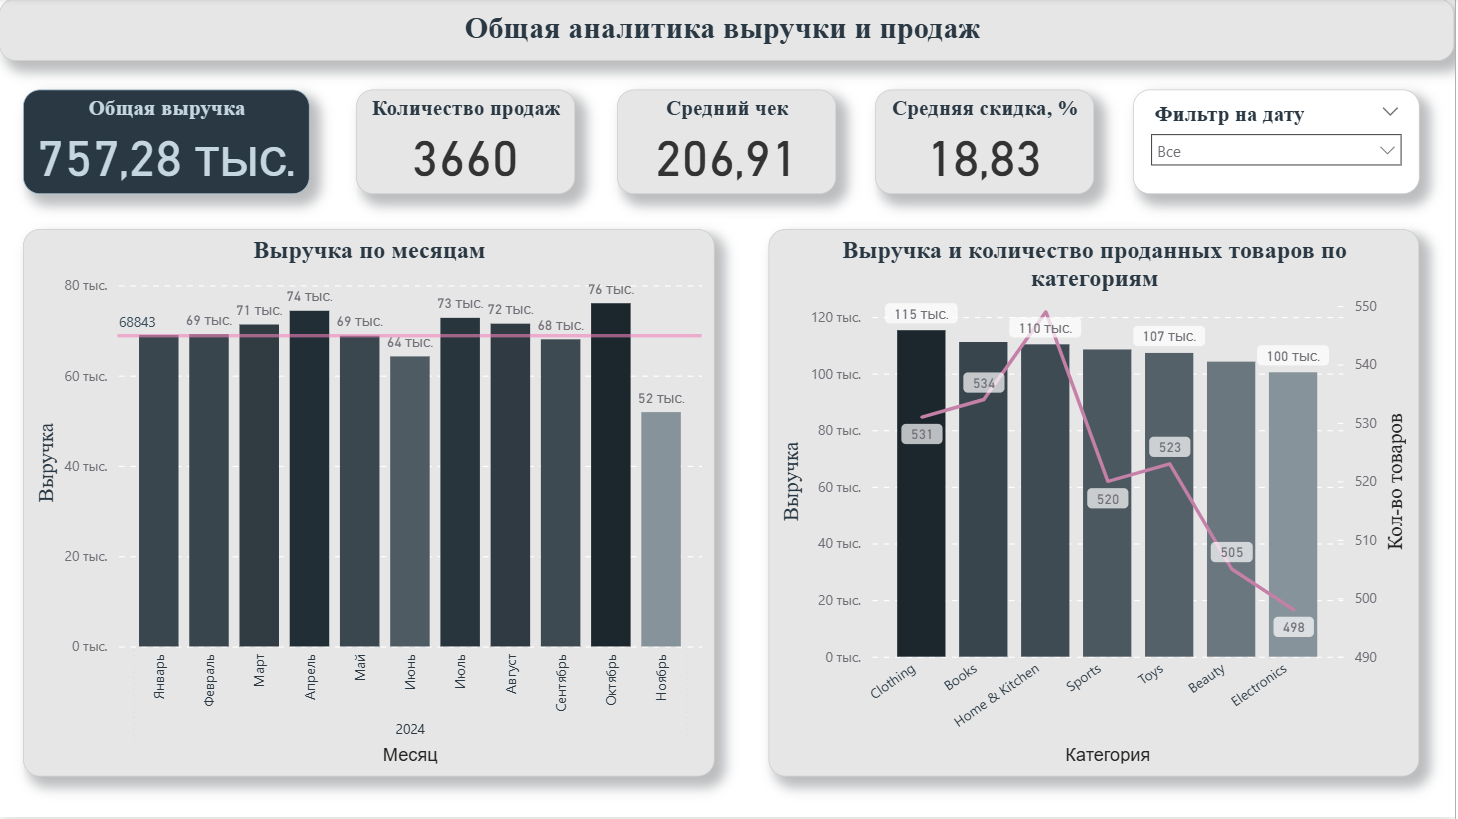

The page's visual inventory and layout, read from the dashboard file:
{"tool":"powerbi","page":{"name":"Страница 1","canvas":[1280,720],"ordinal":0},"visuals":[{"type":"textbox","box":[0,0,1279.1,55.4],"z":0},{"type":"clusteredColumnChart","title":"Выручка по месяцам","fields":{"Category":["ecommerce_dataset_updated.Дата_покупки.Изменение.Иерархия дат.Год","ecommerce_dataset_updated.Дата_покупки.Изменение.Иерархия дат.Месяц"],"Y":["Sum(ecommerce_dataset_updated.Итоговая_цена)"]},"box":[21.1,203.1,607.9,481.3],"z":2000},{"type":"card","title":"Общая выручка","fields":{"Values":["Sum(ecommerce_dataset_updated.Итоговая_цена)"]},"box":[21.1,80.4,251.9,92.3],"z":3001},{"type":"card","title":"Количество продаж","fields":{"Values":["CountNonNull(ecommerce_dataset_updated.ID_товара)"]},"box":[313.8,80.4,192.5,92.3],"z":3002},{"type":"card","title":"Средний чек","fields":{"Values":["ecommerce_dataset_updated.Средний_чек"]},"box":[543.3,80.4,192.5,92.3],"z":3003},{"type":"card","title":"Средняя скидка, %","fields":{"Values":["Avg(ecommerce_dataset_updated.Скидка_%)"]},"box":[770.1,80.4,192.5,92.3],"z":3004},{"type":"lineStackedColumnComboChart","title":"Выручка и количество проданных товаров по категориям","fields":{"Category":["ecommerce_dataset_updated.Категория"],"Y":["Sum(ecommerce_dataset_updated.Итоговая_цена)"],"Y2":["CountNonNull(ecommerce_dataset_updated.ID_товара)"]},"box":[676.5,203.1,572.3,481.3],"z":3005},{"type":"slicer","fields":{"Values":["ecommerce_dataset_updated.Дата_покупки.Изменение.Иерархия дат.Год","ecommerce_dataset_updated.Дата_покупки.Изменение.Иерархия дат.Месяц","ecommerce_dataset_updated.Дата_покупки.Изменение.Иерархия дат.День"]},"box":[996.9,80.4,251.9,92.3],"z":3006}]}

Visuals, with their boxes in screenshot pixels (x1, y1, x2, y2), scaled from the page's 1280x720 canvas onto the 1458x819 screenshot:
textbox: 0/0/1457/63
"Выручка по месяцам" clusteredColumnChart: 24/231/716/779
"Общая выручка" card: 24/91/311/196
"Количество продаж" card: 357/91/577/196
"Средний чек" card: 619/91/838/196
"Средняя скидка, %" card: 877/91/1096/196
"Выручка и количество проданных товаров по категориям" lineStackedColumnComboChart: 771/231/1422/779
slicer - ecommerce_dataset_updated.Дата_покупки.Изменение.Иерархия дат.Год x ecommerce_dataset_updated.Дата_покупки.Изменение.Иерархия дат.Месяц: 1136/91/1422/196
